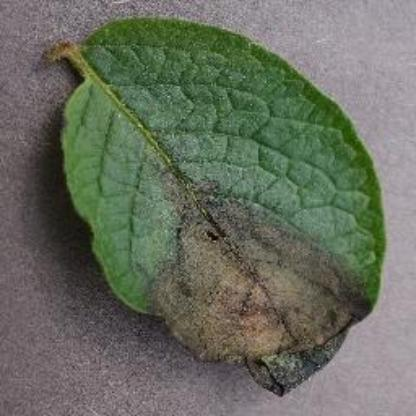Late-Blight: (37, 13, 393, 395)
